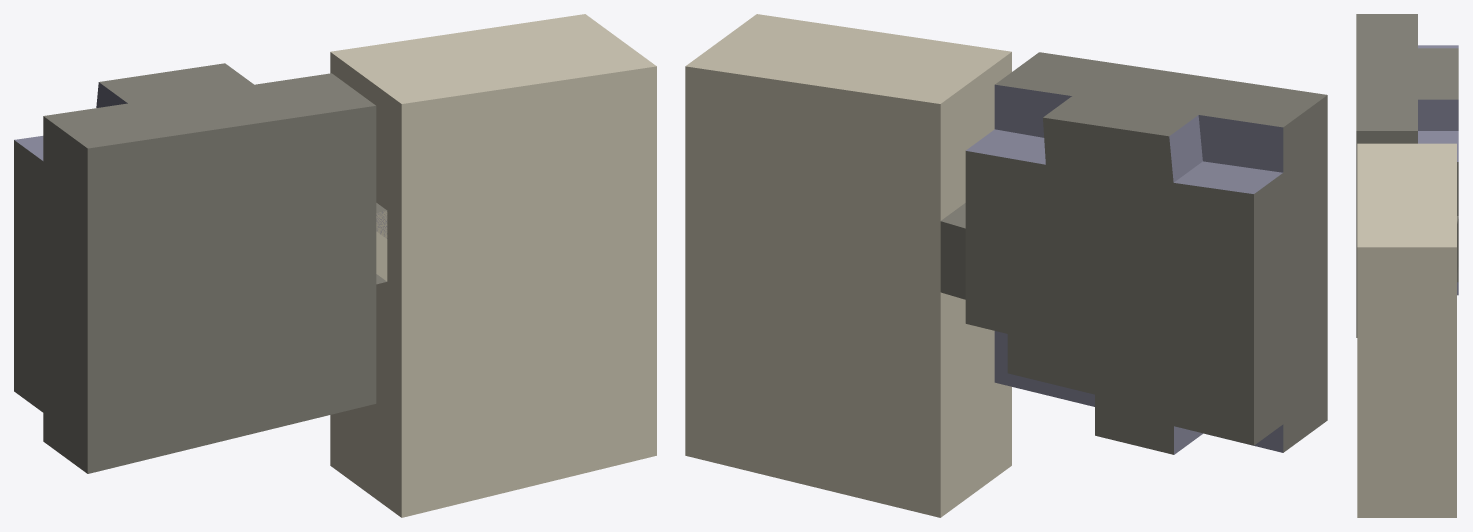
Rendered from CR1_DoorAngle3_ubersimplified.obj.
3 views of the same model, side by side, from view 1: azimuth 30°, elevation 25°; view 2: azimuth 150°, elevation 25°; view 3: azimuth 270°, elevation 25° (orthographic). The views are drawn at different scales.
Parts seen in each view (by area): view 1: obj1, obj3, obj4, obj7, obj5, obj34, obj35; view 2: obj32, obj28, obj4, obj7, obj5, obj34, obj35, obj10, obj33, obj16, obj12, obj25 (+3 smaller); view 3: obj8, obj7, obj5, obj6, obj18, obj17, obj12.
Boxes of the visible parts, left/top/right/bottom form: obj1: left=401, top=66, right=656, bottom=517; obj3: left=87, top=106, right=376, bottom=473; obj4: left=14, top=116, right=87, bottom=473; obj7: left=330, top=14, right=656, bottom=103; obj5: left=44, top=63, right=375, bottom=148; obj34: left=330, top=197, right=401, bottom=517; obj35: left=330, top=52, right=401, bottom=210; obj32: left=685, top=66, right=940, bottom=517; obj28: left=965, top=133, right=1253, bottom=454; obj4: left=1254, top=95, right=1327, bottom=452; obj7: left=686, top=14, right=1011, bottom=103; obj5: left=995, top=52, right=1326, bottom=136; obj34: left=940, top=292, right=1011, bottom=517; obj35: left=940, top=52, right=1011, bottom=220; obj10: left=1198, top=115, right=1283, bottom=172; obj33: left=1043, top=117, right=1173, bottom=182; obj16: left=994, top=84, right=1071, bottom=137; obj12: left=1174, top=161, right=1282, bottom=193; obj25: left=994, top=331, right=1094, bottom=406; obj8: left=1357, top=247, right=1456, bottom=517; obj7: left=1357, top=143, right=1456, bottom=247; obj5: left=1356, top=14, right=1458, bottom=130; obj6: left=1356, top=131, right=1458, bottom=337; obj18: left=1418, top=99, right=1458, bottom=130; obj17: left=1418, top=131, right=1458, bottom=161; obj12: left=1418, top=45, right=1458, bottom=48.
Bounding box in the file's own units: 486 × 364 × 109.
